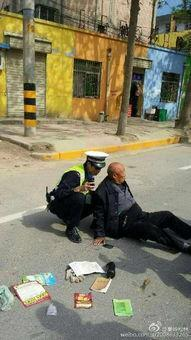Fall-Detected: (92, 153, 191, 262)
